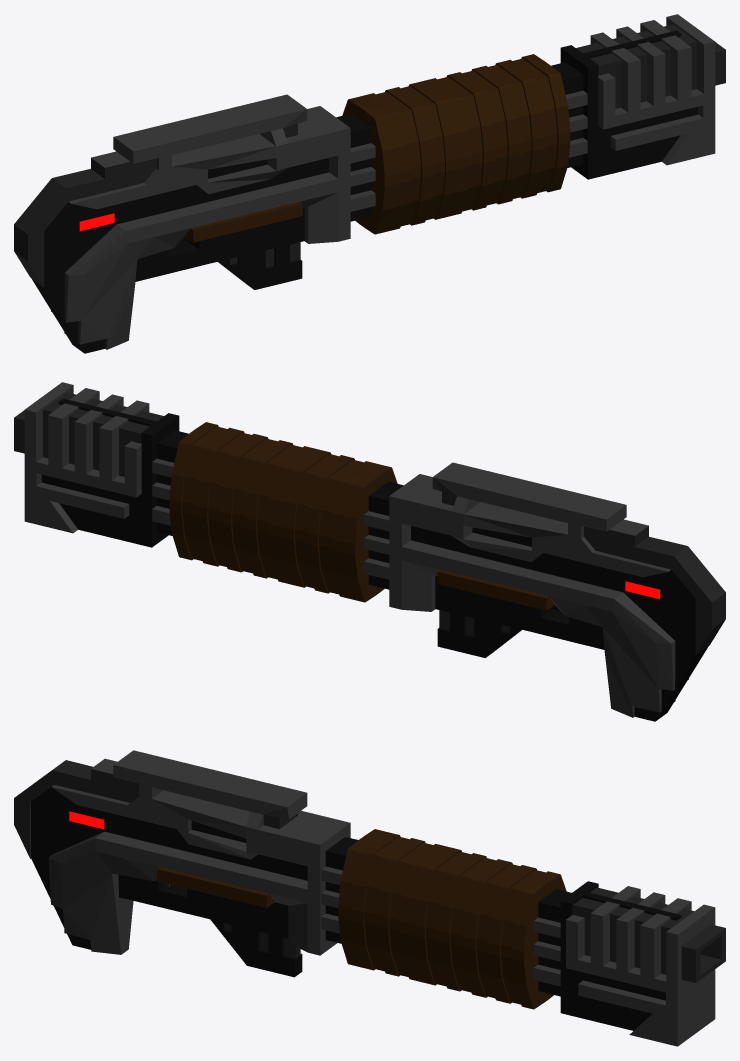
Rendered from plasma rifle.fbx.
3 views of the same model, one above another, from view 1: azimuth 30°, elevation 25°; view 2: azimuth 150°, elevation 25°; view 3: azimuth 330°, elevation 25° (orthographic).
Parts seen in each view (by area): view 1: Plane002; view 2: Plane002; view 3: Plane002.
Boxes of the visible parts, x1,y1,x2,y2 form: Plane002: (14,14,725,353); Plane002: (14,382,725,721); Plane002: (14,750,725,1046).
Bounding box in the file's own units: 99.26 × 26.69 × 11.58.
